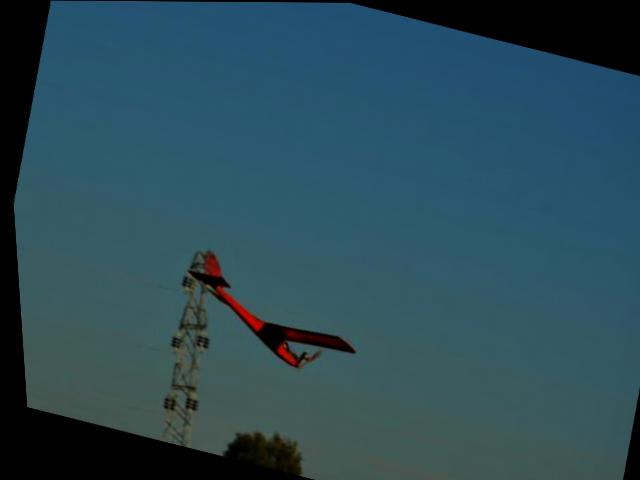iha: (167, 239, 367, 381)
